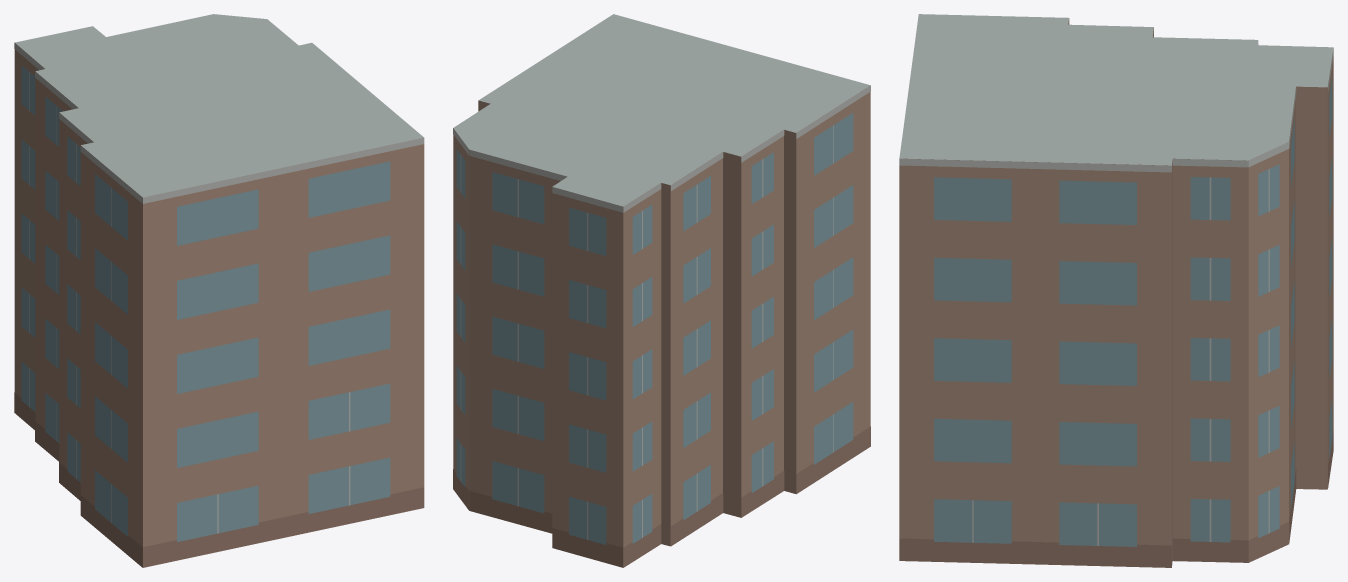
The model's file is survey-upis-32702474.glb.
3 renders of one model, left to right at view 1: azimuth 30°, elevation 25°; view 2: azimuth 150°, elevation 25°; view 3: azimuth 270°, elevation 25°, orthographic. The views are drawn at different scales.
Visible parts, largest first — view 1: survey-upis-32702474.tmp; view 2: survey-upis-32702474.tmp; view 3: survey-upis-32702474.tmp.
Boxes of the visible parts, x1,y1,x2,y2 form: survey-upis-32702474.tmp: (14,14,424,567); survey-upis-32702474.tmp: (453,14,870,567); survey-upis-32702474.tmp: (899,14,1333,567).
Bounding box in the file's own units: 11.48 × 14.2 × 13.9.
